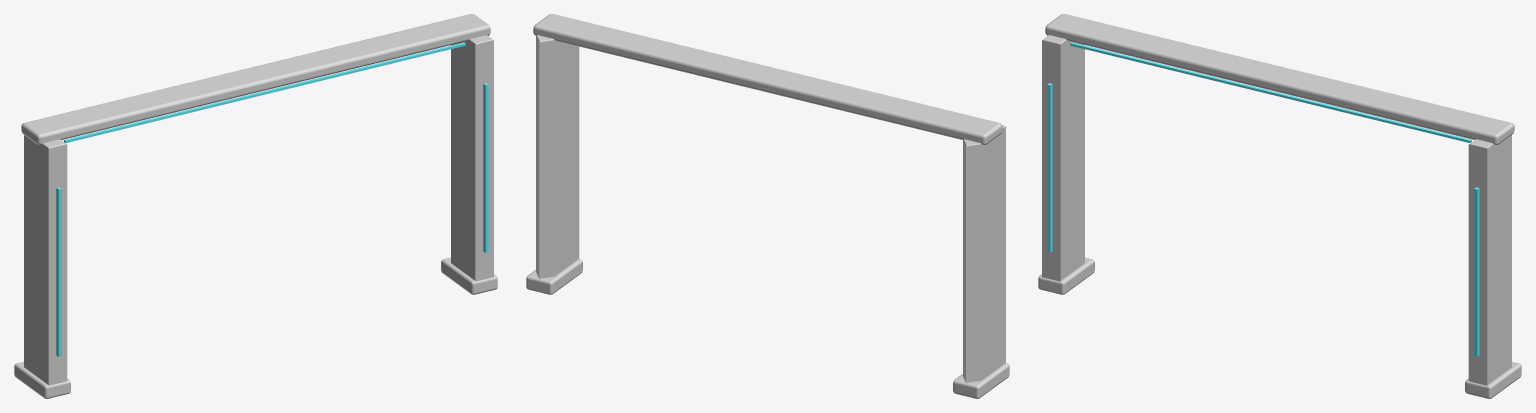
File: FutureServiceDetail.glb
3 views of the same model, side by side, from view 1: azimuth 30°, elevation 25°; view 2: azimuth 150°, elevation 25°; view 3: azimuth 330°, elevation 25° (orthographic).
Visible parts, largest first — view 1: Body, Glow; view 2: Body; view 3: Body, Glow.
Part boxes in pixels (x1,y1,x2,y2): Body: [14, 14, 497, 398]; Glow: [56, 42, 488, 356]; Body: [526, 14, 1009, 398]; Body: [1038, 14, 1521, 398]; Glow: [1047, 42, 1479, 356].
Size of the model in its own units: 17 by 9.3 by 2.21.
